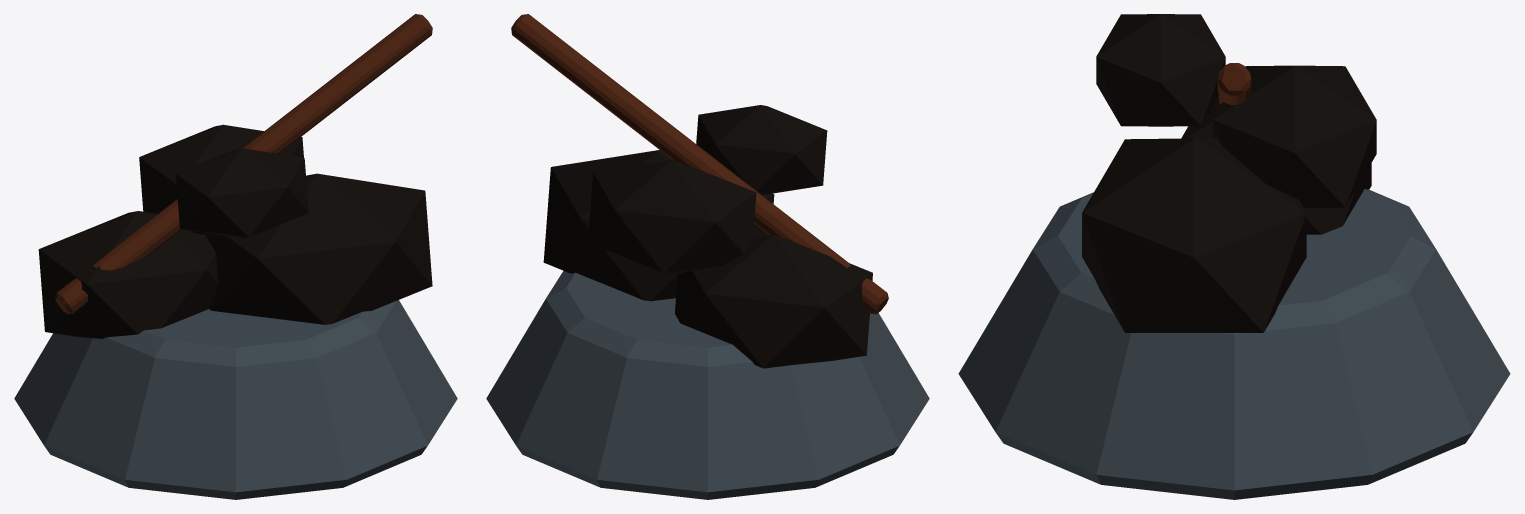
Rendered from burnt_slop.obj.
3 renders of one model, left to right at view 1: azimuth 30°, elevation 25°; view 2: azimuth 150°, elevation 25°; view 3: azimuth 270°, elevation 25°, orthographic. The views are drawn at different scales.
Visible parts, largest first — view 1: Bowl.002_MAT_Iron, Food_Lump1.002_MAT_Char, Food_Lump0.002_MAT_Char, Food_Lump3.002_MAT_Char, Burnt_Utensil.001_MAT_Wood, Food_Lump2.002_MAT_Char; view 2: Bowl.002_MAT_Iron, Food_Lump0.002_MAT_Char, Food_Lump2.002_MAT_Char, Burnt_Utensil.001_MAT_Wood, Food_Lump1.002_MAT_Char, Food_Lump3.002_MAT_Char; view 3: Bowl.002_MAT_Iron, Food_Lump1.002_MAT_Char, Food_Lump2.002_MAT_Char, Food_Lump3.002_MAT_Char, Food_Lump0.002_MAT_Char, Burnt_Utensil.001_MAT_Wood.
Part boxes in pixels (x1=…): Bowl.002_MAT_Iron: x1=14, y1=300, x2=457, y2=499; Food_Lump1.002_MAT_Char: x1=205, y1=173, x2=432, y2=324; Food_Lump0.002_MAT_Char: x1=38, y1=211, x2=218, y2=338; Food_Lump3.002_MAT_Char: x1=175, y1=148, x2=308, y2=238; Burnt_Utensil.001_MAT_Wood: x1=55, y1=14, x2=432, y2=314; Food_Lump2.002_MAT_Char: x1=139, y1=124, x2=303, y2=235; Bowl.002_MAT_Iron: x1=486, y1=270, x2=929, y2=499; Food_Lump0.002_MAT_Char: x1=674, y1=234, x2=872, y2=368; Food_Lump2.002_MAT_Char: x1=588, y1=160, x2=756, y2=274; Burnt_Utensil.001_MAT_Wood: x1=511, y1=14, x2=888, y2=314; Food_Lump1.002_MAT_Char: x1=543, y1=150, x2=774, y2=301; Food_Lump3.002_MAT_Char: x1=696, y1=105, x2=827, y2=194; Bowl.002_MAT_Iron: x1=958, y1=189, x2=1510, y2=499; Food_Lump1.002_MAT_Char: x1=1082, y1=138, x2=1306, y2=332; Food_Lump2.002_MAT_Char: x1=1212, y1=65, x2=1376, y2=207; Food_Lump3.002_MAT_Char: x1=1096, y1=14, x2=1225, y2=126; Food_Lump0.002_MAT_Char: x1=1181, y1=97, x2=1371, y2=234; Burnt_Utensil.001_MAT_Wood: x1=1217, y1=63, x2=1251, y2=105.
Bounding box in the file's own units: 1.66 × 1.44 × 1.65.
